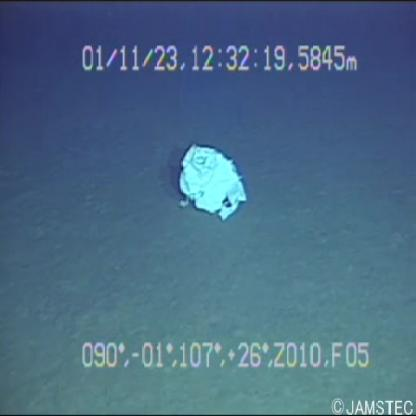Rác: (164, 141, 256, 224)
